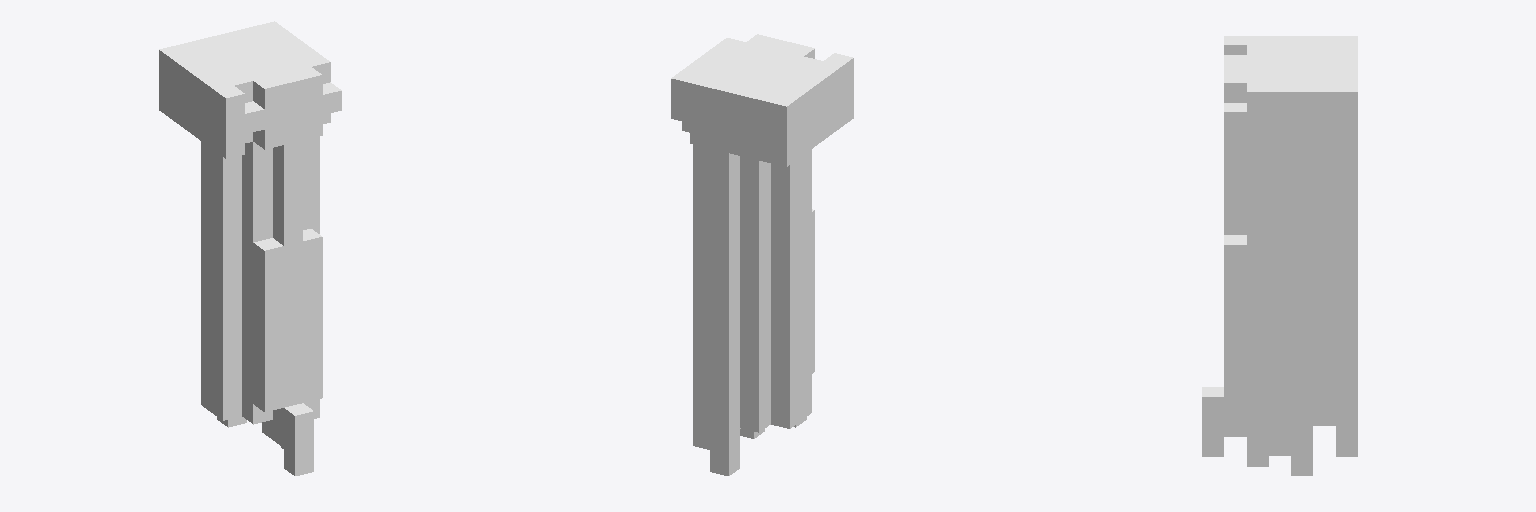
Rendered from Capitain-3.obj.
3 renders of one model, left to right at view 1: azimuth 30°, elevation 25°; view 2: azimuth 150°, elevation 25°; view 3: azimuth 270°, elevation 25°, orthographic.
Visible parts, largest first — view 1: object 1; view 2: object 1; view 3: object 1.
Part boxes in pixels (bbox=[...]): object 1: bbox=[159, 21, 341, 475]; object 1: bbox=[671, 34, 853, 475]; object 1: bbox=[1202, 36, 1357, 475].
Bounding box in the file's own units: 0.6 × 1.9 × 0.7.